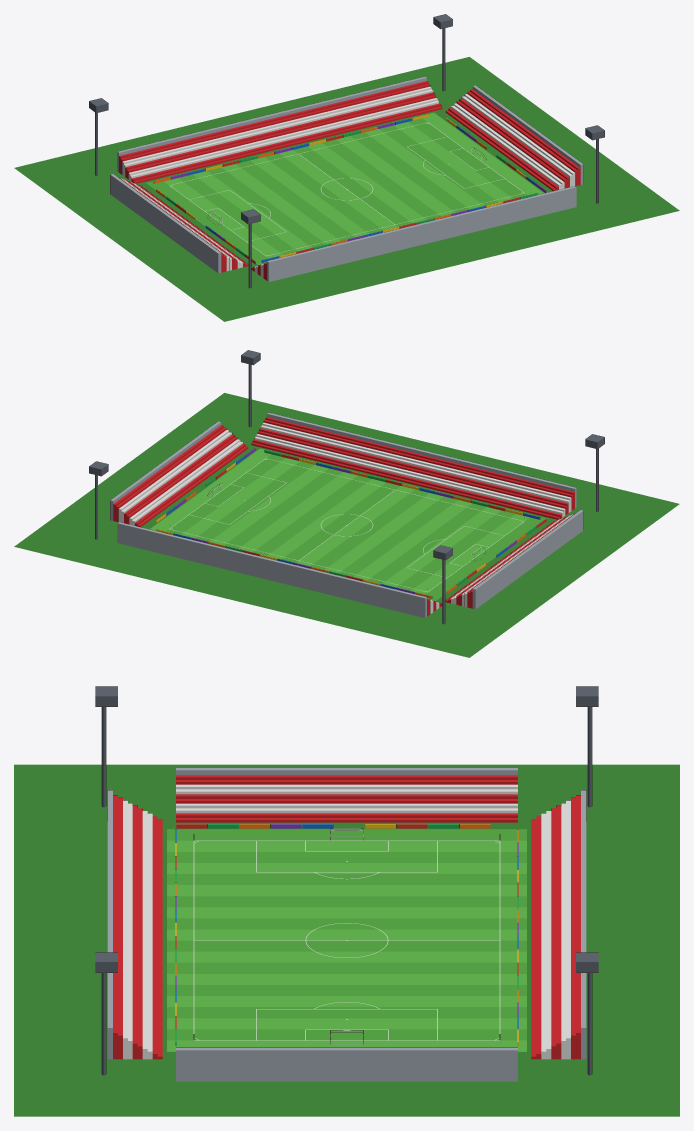
Rendered from estadio.glb.
The picture shows the model from 3 angles, top to bottom: view 1: azimuth 30°, elevation 25°; view 2: azimuth 150°, elevation 25°; view 3: azimuth 270°, elevation 25°; orthographic projection. The views are drawn at different scales.
Visible parts, largest first — view 1: Suelo_Exterior, Cesped, Tribunas, Carteles, Torres_Luz, Lineas; view 2: Suelo_Exterior, Cesped, Tribunas, Carteles, Torres_Luz, Lineas; view 3: Suelo_Exterior, Cesped, Tribunas, Torres_Luz, Lineas, Carteles.
Boxes of the visible parts, x1,y1,x2,y2 form: Suelo_Exterior: (14, 57, 679, 321); Cesped: (146, 112, 543, 264); Tribunas: (110, 76, 583, 281); Carteles: (153, 114, 546, 264); Torres_Luz: (89, 14, 604, 288); Lineas: (169, 122, 524, 256); Suelo_Exterior: (14, 393, 679, 657); Cesped: (150, 448, 547, 600); Tribunas: (110, 412, 583, 617); Carteles: (156, 448, 546, 598); Torres_Luz: (89, 350, 604, 624); Lineas: (169, 458, 524, 592); Suelo_Exterior: (14, 764, 679, 1116); Cesped: (167, 829, 526, 1051); Tribunas: (107, 768, 586, 1081); Torres_Luz: (95, 686, 598, 1075); Lineas: (193, 840, 500, 1040); Carteles: (175, 824, 518, 1045).
Size of the model in its own units: 185 by 28.63 by 148.
